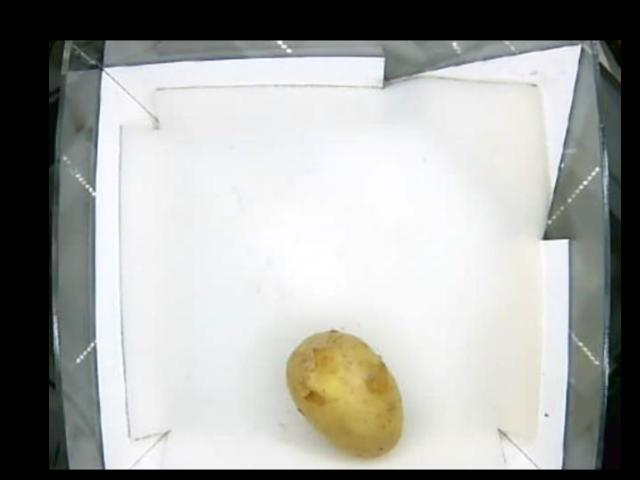Potato: (285, 329, 404, 459)
